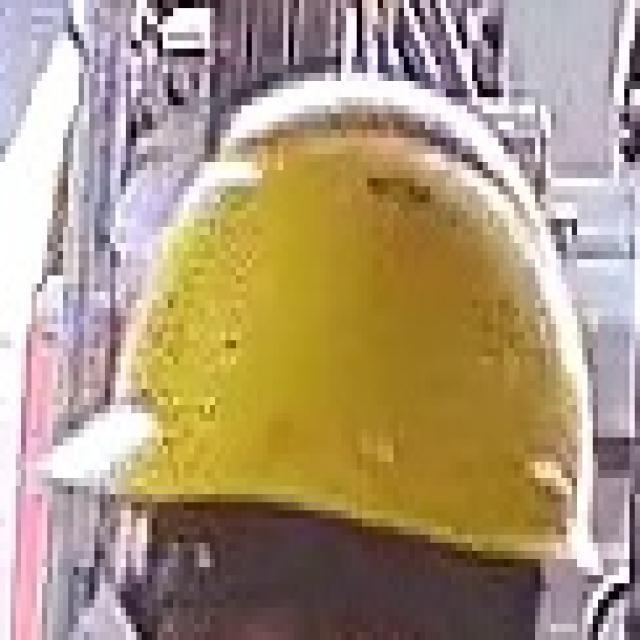yellow helmet: (56, 85, 609, 588)
